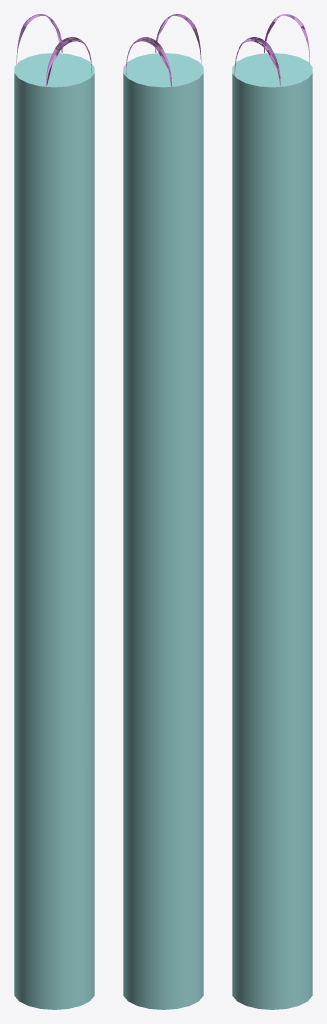
Rendered from refine_cylinder.obj.
3 views of the same model, side by side, from view 1: azimuth 30°, elevation 25°; view 2: azimuth 150°, elevation 25°; view 3: azimuth 330°, elevation 25° (orthographic).
Parts seen in each view (by area): view 1: Cylinder001, 332009_DC_Shell; view 2: Cylinder001, 332009_DC_Shell; view 3: Cylinder001, 332009_DC_Shell.
Part boxes in pixels (<box>): Cylinder001: <box>14,53,94,1009</box>; 332009_DC_Shell: <box>16,14,91,86</box>; Cylinder001: <box>123,53,203,1009</box>; 332009_DC_Shell: <box>126,14,201,86</box>; Cylinder001: <box>232,53,312,1009</box>; 332009_DC_Shell: <box>234,14,309,85</box>.
Bounding box in the file's own units: 0.3346 × 4.37 × 0.3296.
